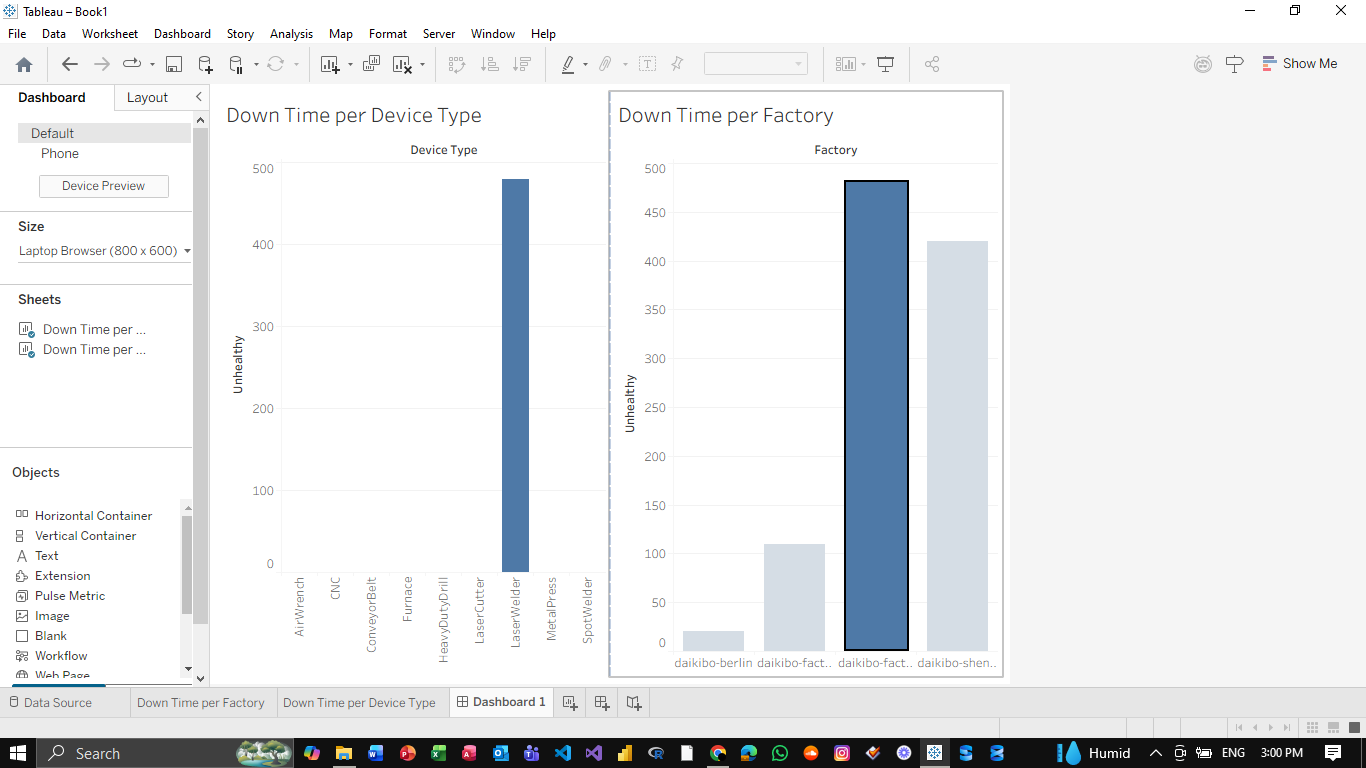

What the dashboard file says about the page in this screenshot:
{"tool":"tableau","page":{"name":"Dashboard 1","canvas":[800,600],"ordinal":0},"visuals":[{"type":"worksheet","title":"Down Time per Device Type","mark":"Bar","rows":["Calculation_0423088248569856"],"cols":["deviceType"],"box":[8,8,392,584]},{"type":"worksheet","title":"Down Time per Factory","mark":"Bar","rows":["Calculation_0423088248569856"],"cols":["factory"],"box":[400,8,392,584]}]}

Visuals, with their boxes on the page's 800x600 design canvas (x1, y1, x2, y2). These are canvas units, not pixel positions in the 1366x768 screenshot, which may show the page scaled, cropped or inside an application window:
"Down Time per Device Type" worksheet (Bar marks): (left=8, top=8, right=400, bottom=592)
"Down Time per Factory" worksheet (Bar marks): (left=400, top=8, right=792, bottom=592)
